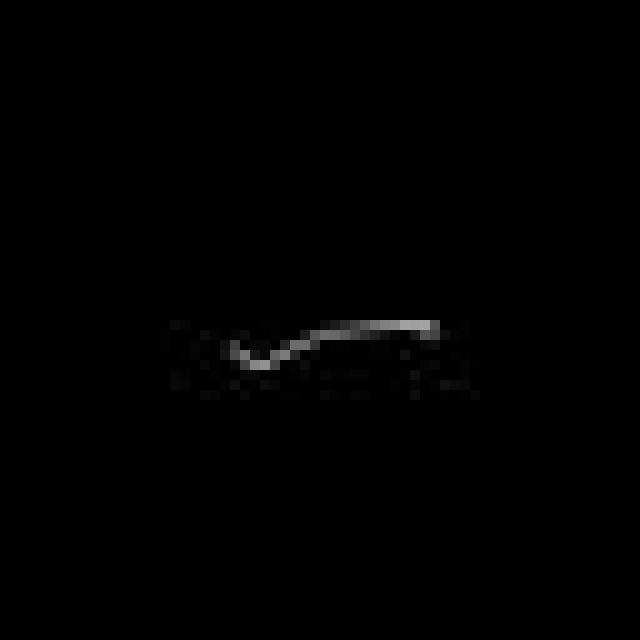1 -one-: (219, 308, 436, 378)
